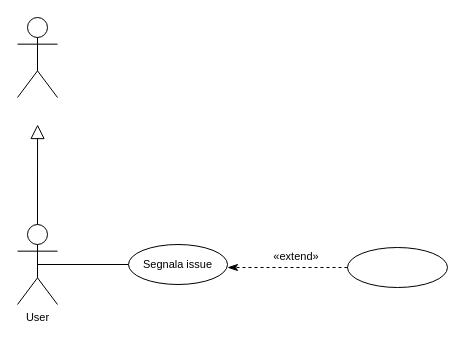
This 465x342 diagram has some shape labels left out. The box of each missing label's shape, as (x1, y1, x2, y2) in pixels:
Crea tag: (346, 246, 448, 288)
Lurker: (16, 16, 58, 98)
